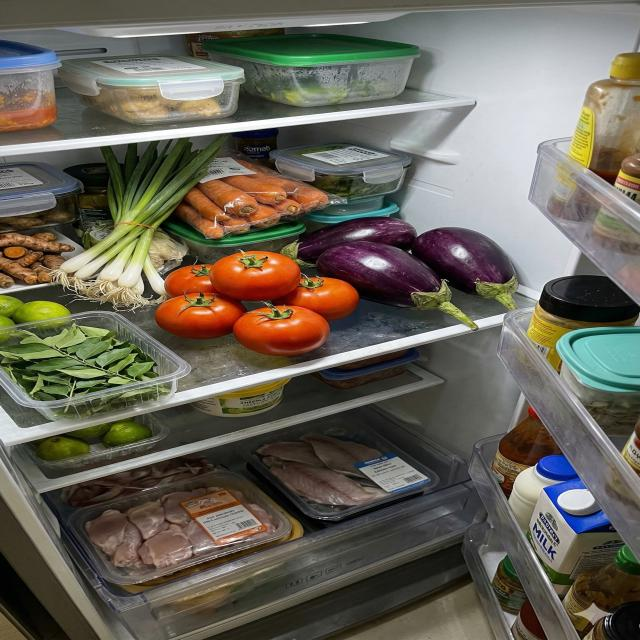carrot: (178, 154, 329, 239)
chicken: (85, 487, 278, 576)
curry_leaves: (0, 322, 173, 420)
eggplant: (279, 216, 520, 332)
lime: (28, 416, 154, 461), (0, 294, 72, 346)
spring_onion: (39, 134, 228, 313)
tomato: (154, 249, 360, 356)
turmeric: (0, 232, 76, 288)
